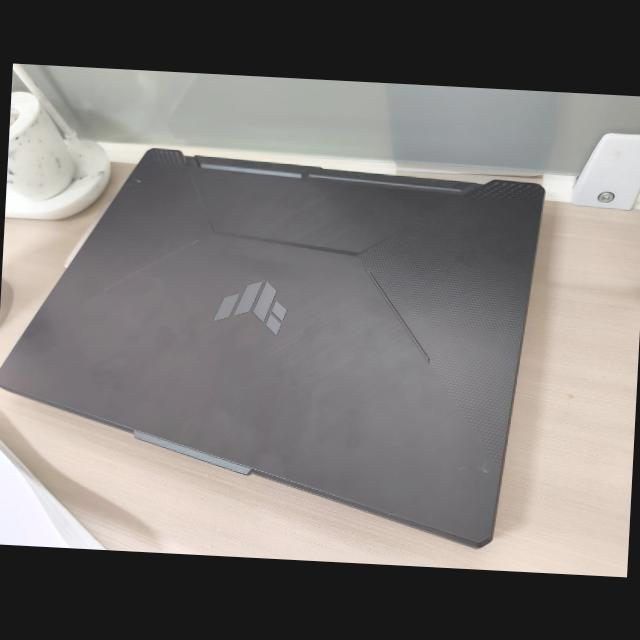laptop: (0, 134, 559, 558)
